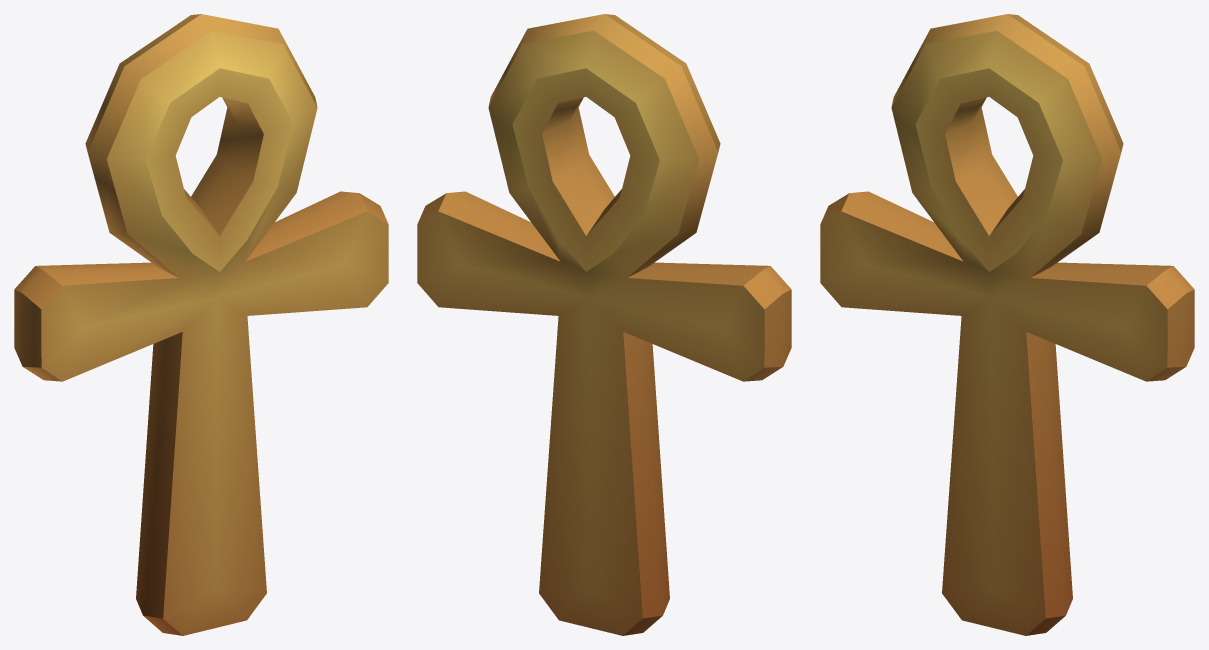
The model's file is ankh.gltf.
The picture shows the model from 3 angles, left to right: view 1: azimuth 30°, elevation 25°; view 2: azimuth 150°, elevation 25°; view 3: azimuth 330°, elevation 25°; orthographic projection.
Visible parts, largest first — view 1: ankh; view 2: ankh; view 3: ankh.
Boxes of the visible parts, x1,y1,x2,y2 form: ankh: (14,14,388,635); ankh: (417,14,791,635); ankh: (820,14,1194,635).
Bounding box in the file's own units: 0.5321 × 0.8653 × 0.094.
1 material, 1 textured.
